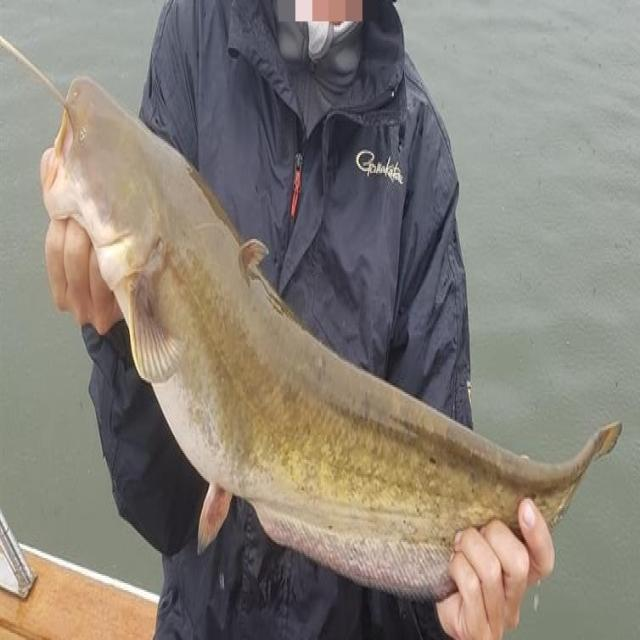Catfish: (30, 60, 627, 626)
